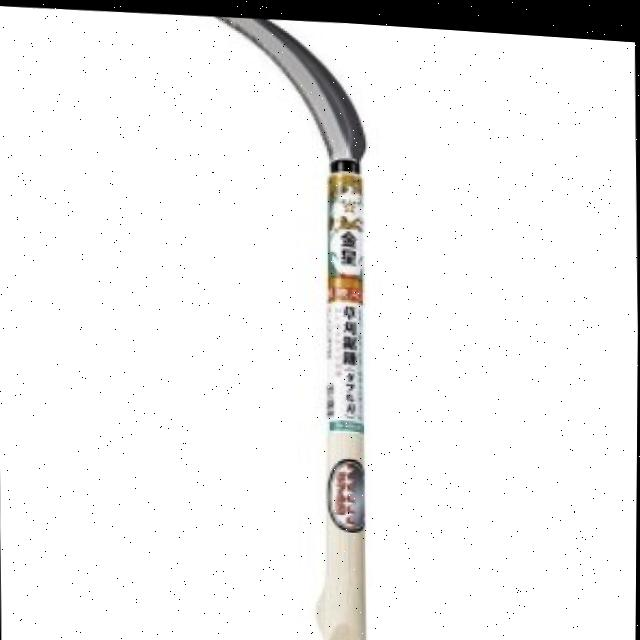sickle: (95, 5, 424, 640)
